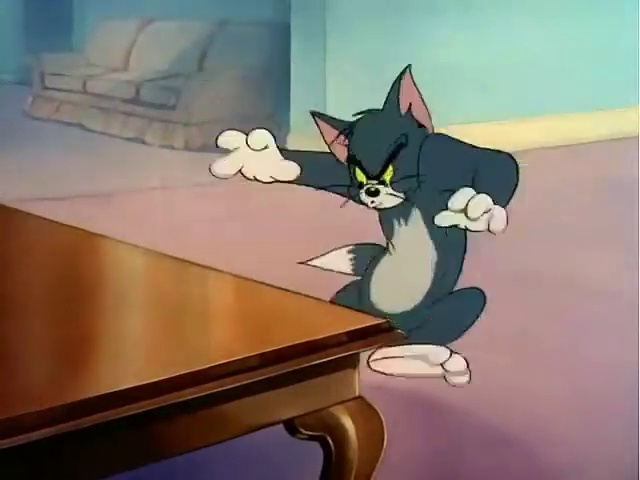tom: (202, 48, 533, 400)
